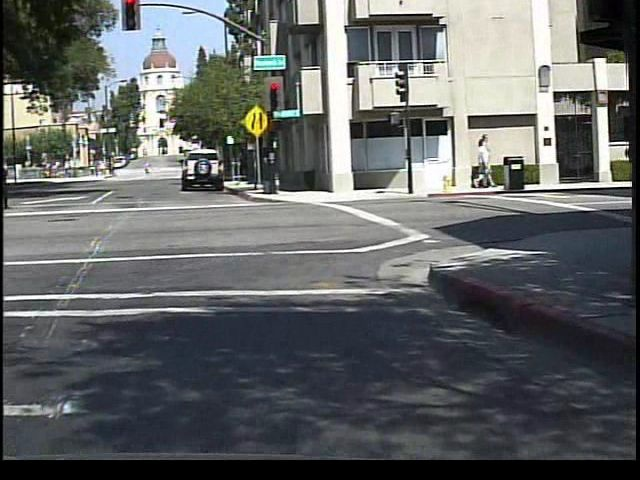person: (3, 169, 30, 228), (4, 158, 23, 213), (144, 161, 154, 178)
